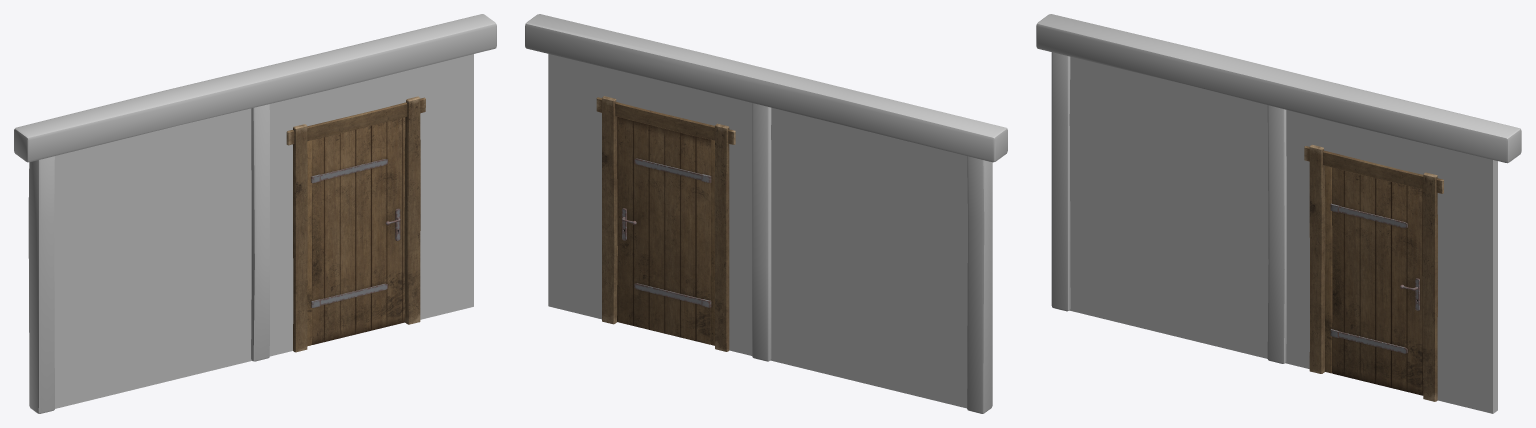
File: SM_WallElement_06.FBX
3 views of the same model, side by side, from view 1: azimuth 30°, elevation 25°; view 2: azimuth 150°, elevation 25°; view 3: azimuth 330°, elevation 25° (orthographic).
Parts seen in each view (by area): view 1: SM_WallElement_06, SM_Door_01; view 2: SM_WallElement_06, SM_Door_01; view 3: SM_WallElement_06, SM_Door_01.
Part boxes in pixels (bbox=[...]): SM_WallElement_06: bbox=[14, 14, 496, 413]; SM_Door_01: bbox=[311, 117, 405, 344]; SM_WallElement_06: bbox=[525, 14, 1007, 413]; SM_Door_01: bbox=[617, 117, 711, 344]; SM_WallElement_06: bbox=[1036, 14, 1521, 413]; SM_Door_01: bbox=[1330, 167, 1423, 395].
Bounding box in the file's own units: 5.47 × 3.16 × 0.3119.
